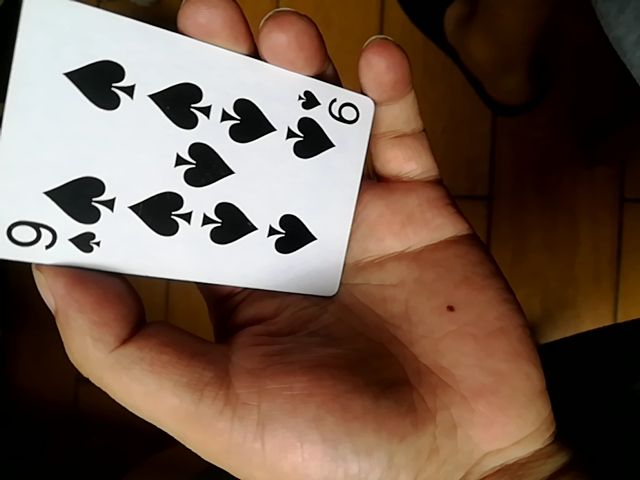ht 9: (5, 3, 374, 304)
